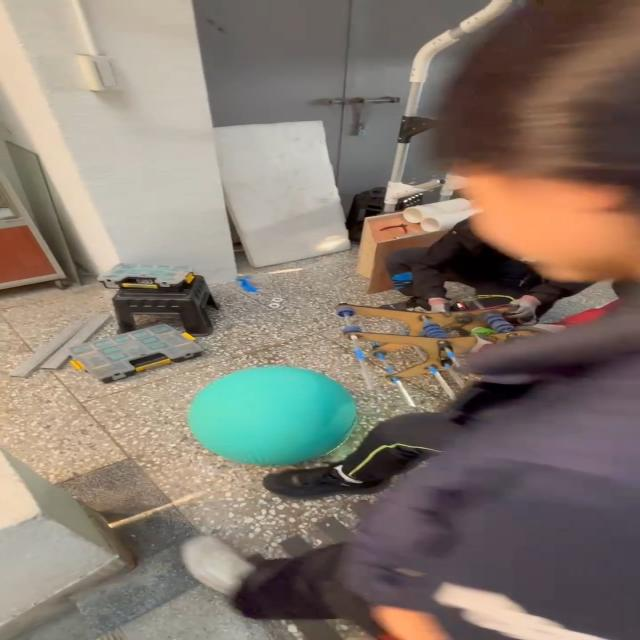ALGAE: (185, 364, 359, 466)
